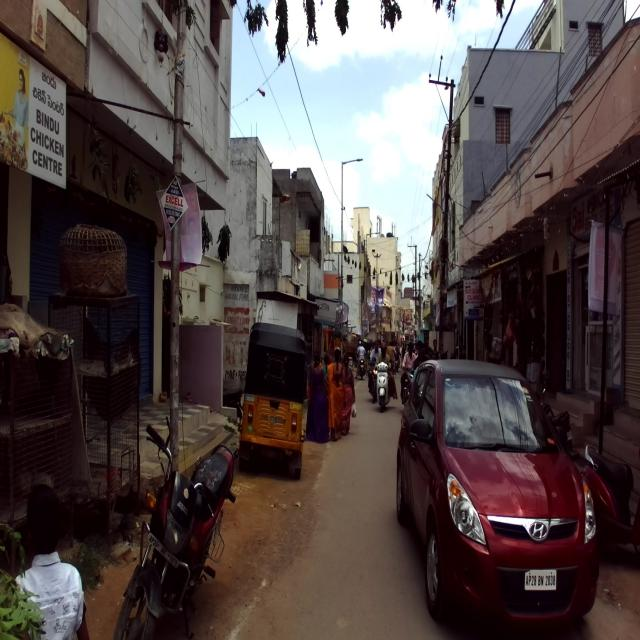Car_Hyundai: (396, 358, 599, 633)
autorickshaw: (238, 320, 308, 480)
motorcycle_Hero: (110, 413, 237, 640)
scooter: (579, 444, 639, 562), (376, 360, 390, 408)
